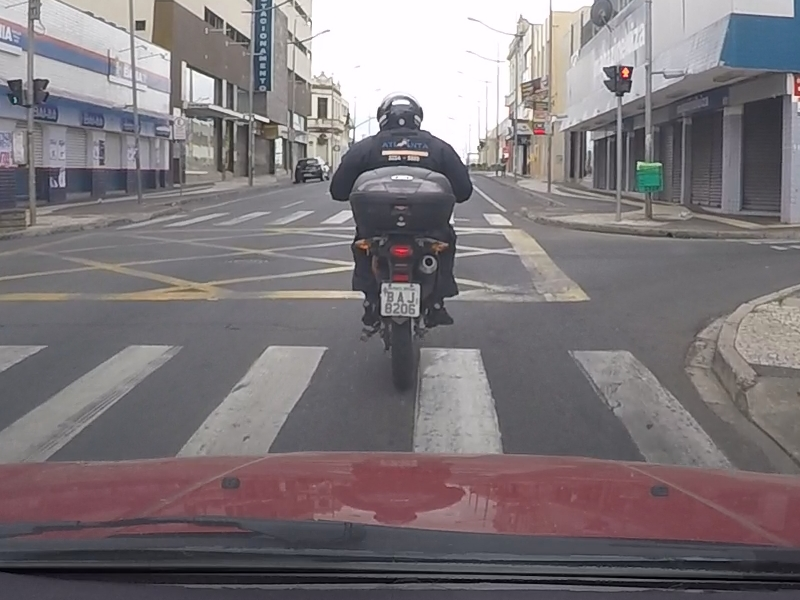placa: (381, 283, 420, 317)
